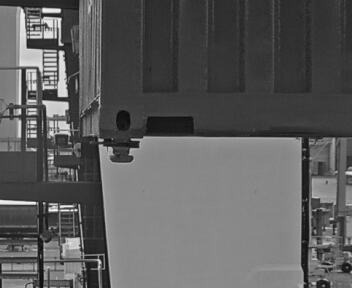twist_lock_1: (95, 132, 144, 169)
